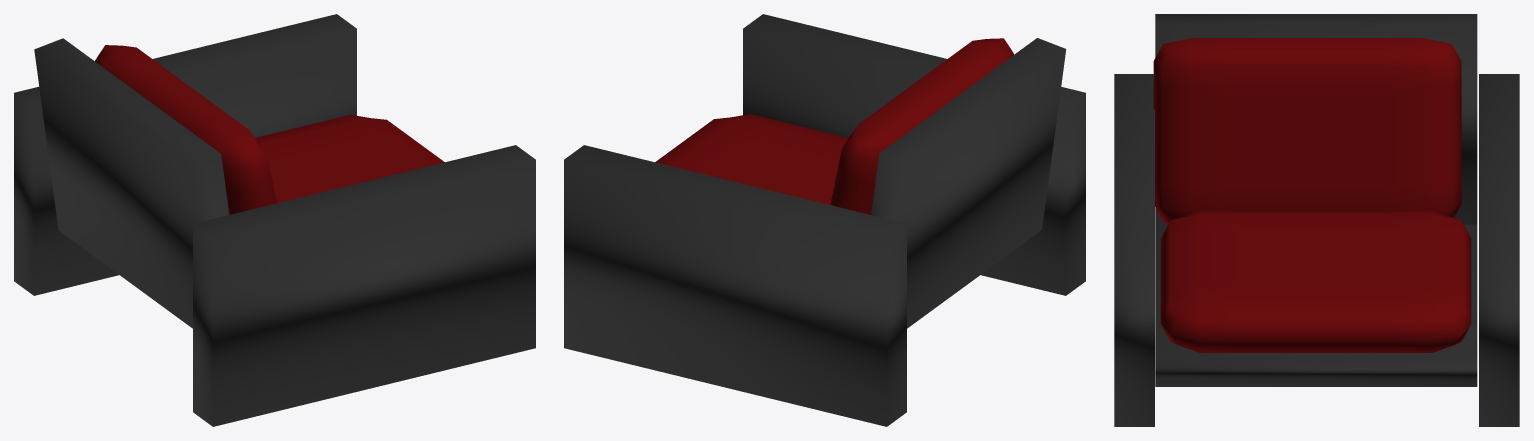
File: CPI441_Fur_Couch_1_Single-V2_Red.fbx
The picture shows the model from 3 angles, left to right: view 1: azimuth 30°, elevation 25°; view 2: azimuth 150°, elevation 25°; view 3: azimuth 270°, elevation 25°; orthographic projection.
Parts seen in each view (by area): view 1: Cube.004; view 2: Cube.004; view 3: Cube.004.
Part boxes in pixels (x1=…): Cube.004: x1=14, y1=14, x2=535, y2=426; Cube.004: x1=564, y1=14, x2=1085, y2=426; Cube.004: x1=1114, y1=14, x2=1519, y2=426.
Bounding box in the file's own units: 375 × 267 × 382.
